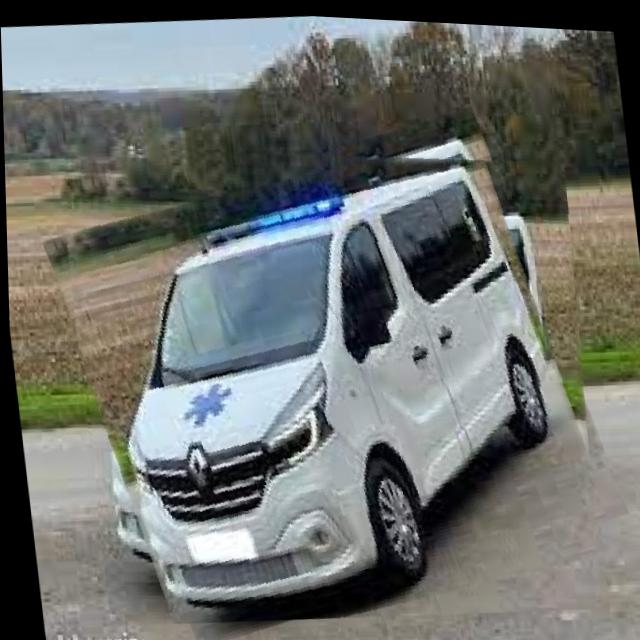ambulance: (53, 102, 613, 640)
